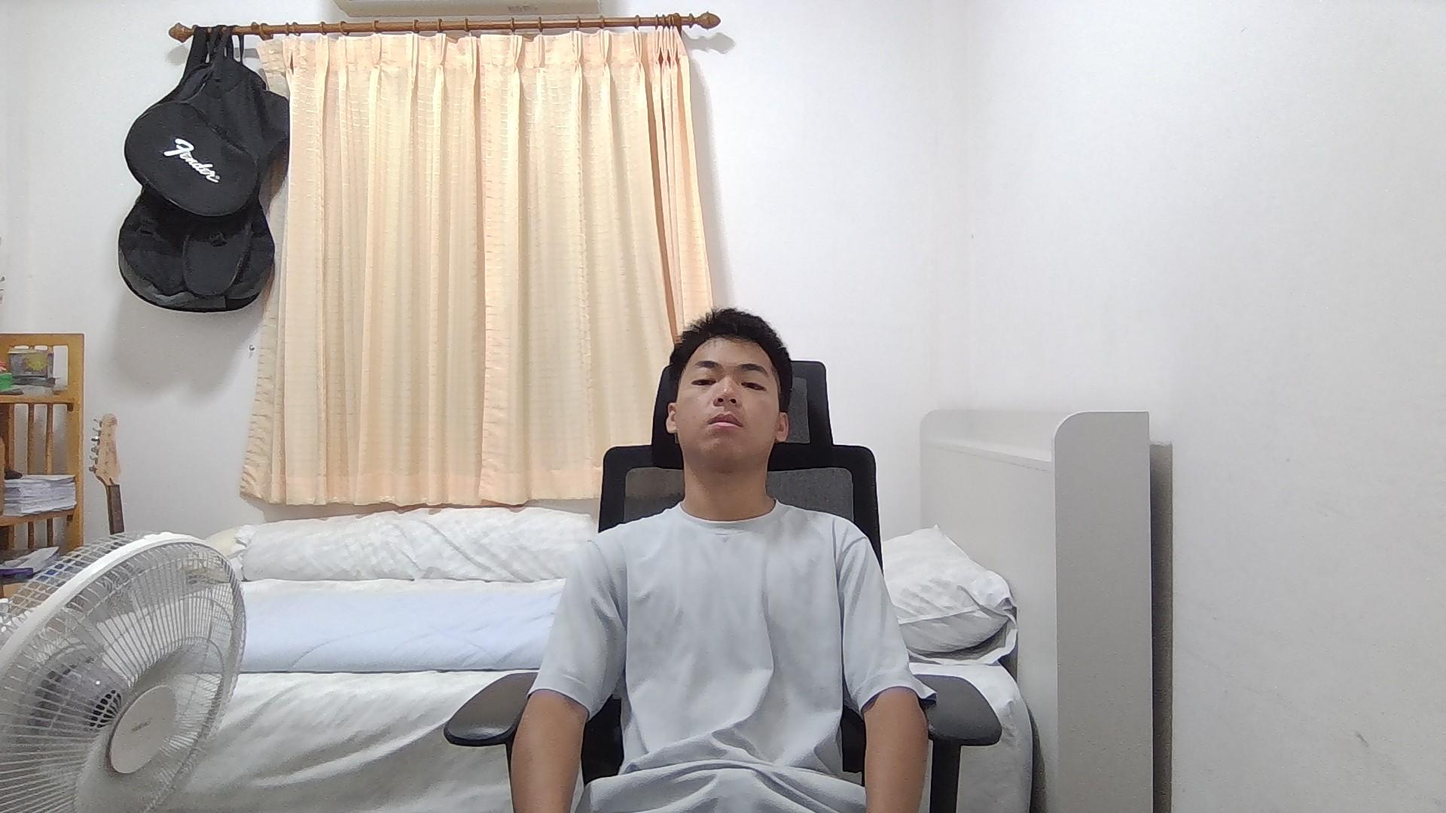BadPosture: (511, 311, 933, 812)
